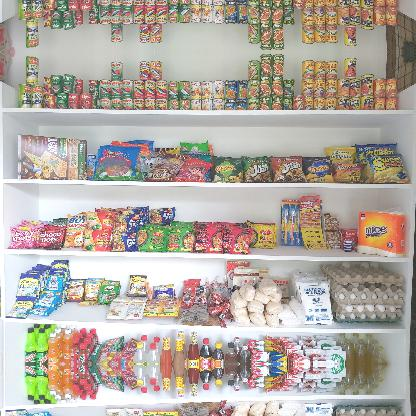Koko-Krunch: (18, 134, 86, 180)
